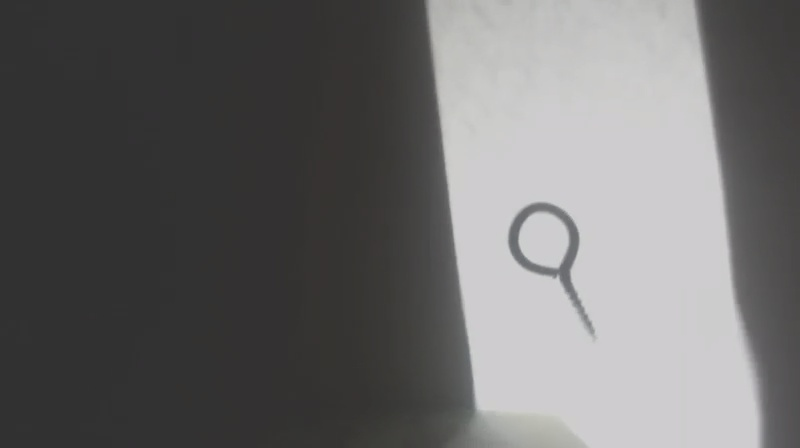O001: (504, 198, 604, 344)
